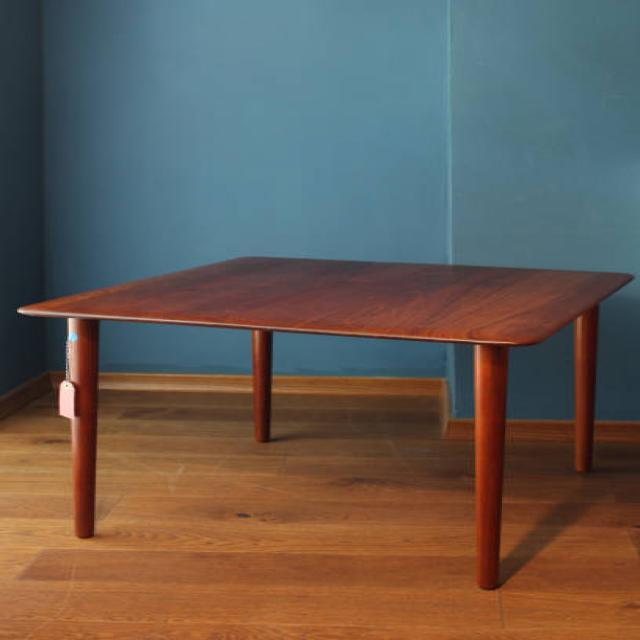table: (16, 254, 634, 589)
